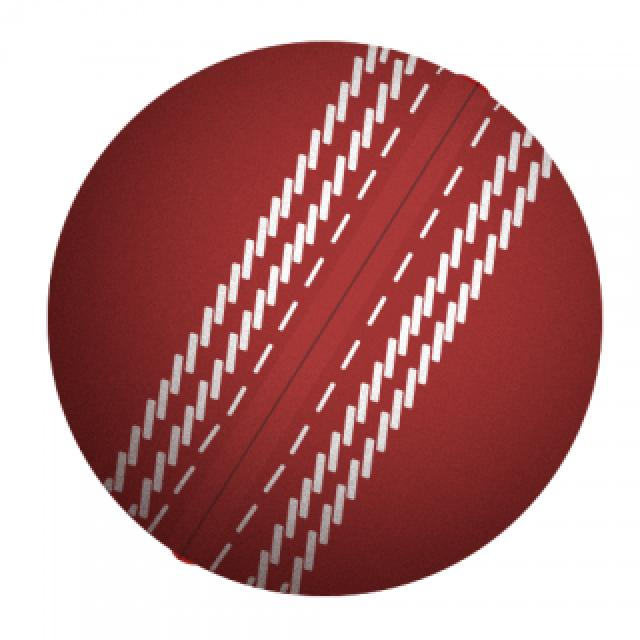ball: (42, 36, 606, 598)
